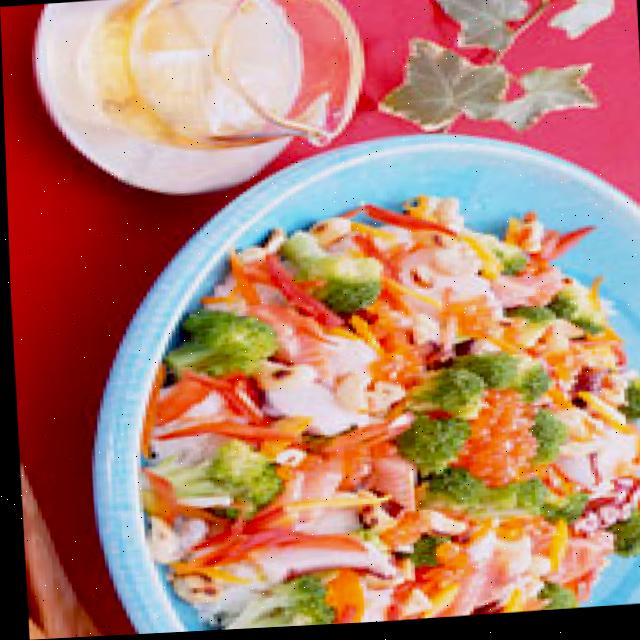寿司卷物: (91, 174, 640, 637)
